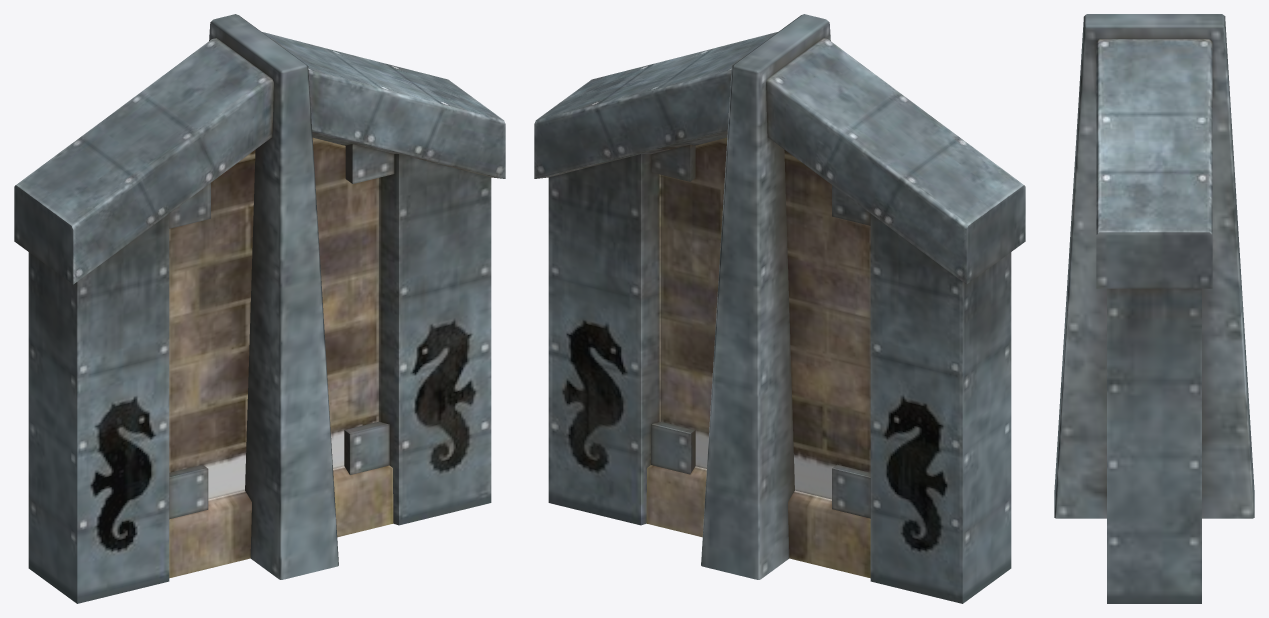
File: 69-ironwall-wall_iron_short.glb
3 renders of one model, left to right at view 1: azimuth 30°, elevation 25°; view 2: azimuth 150°, elevation 25°; view 3: azimuth 270°, elevation 25°, orthographic.
Size of the model in its own units: 4.65 by 5.08 by 1.9.
Materials: 1 (1 with a texture image).
